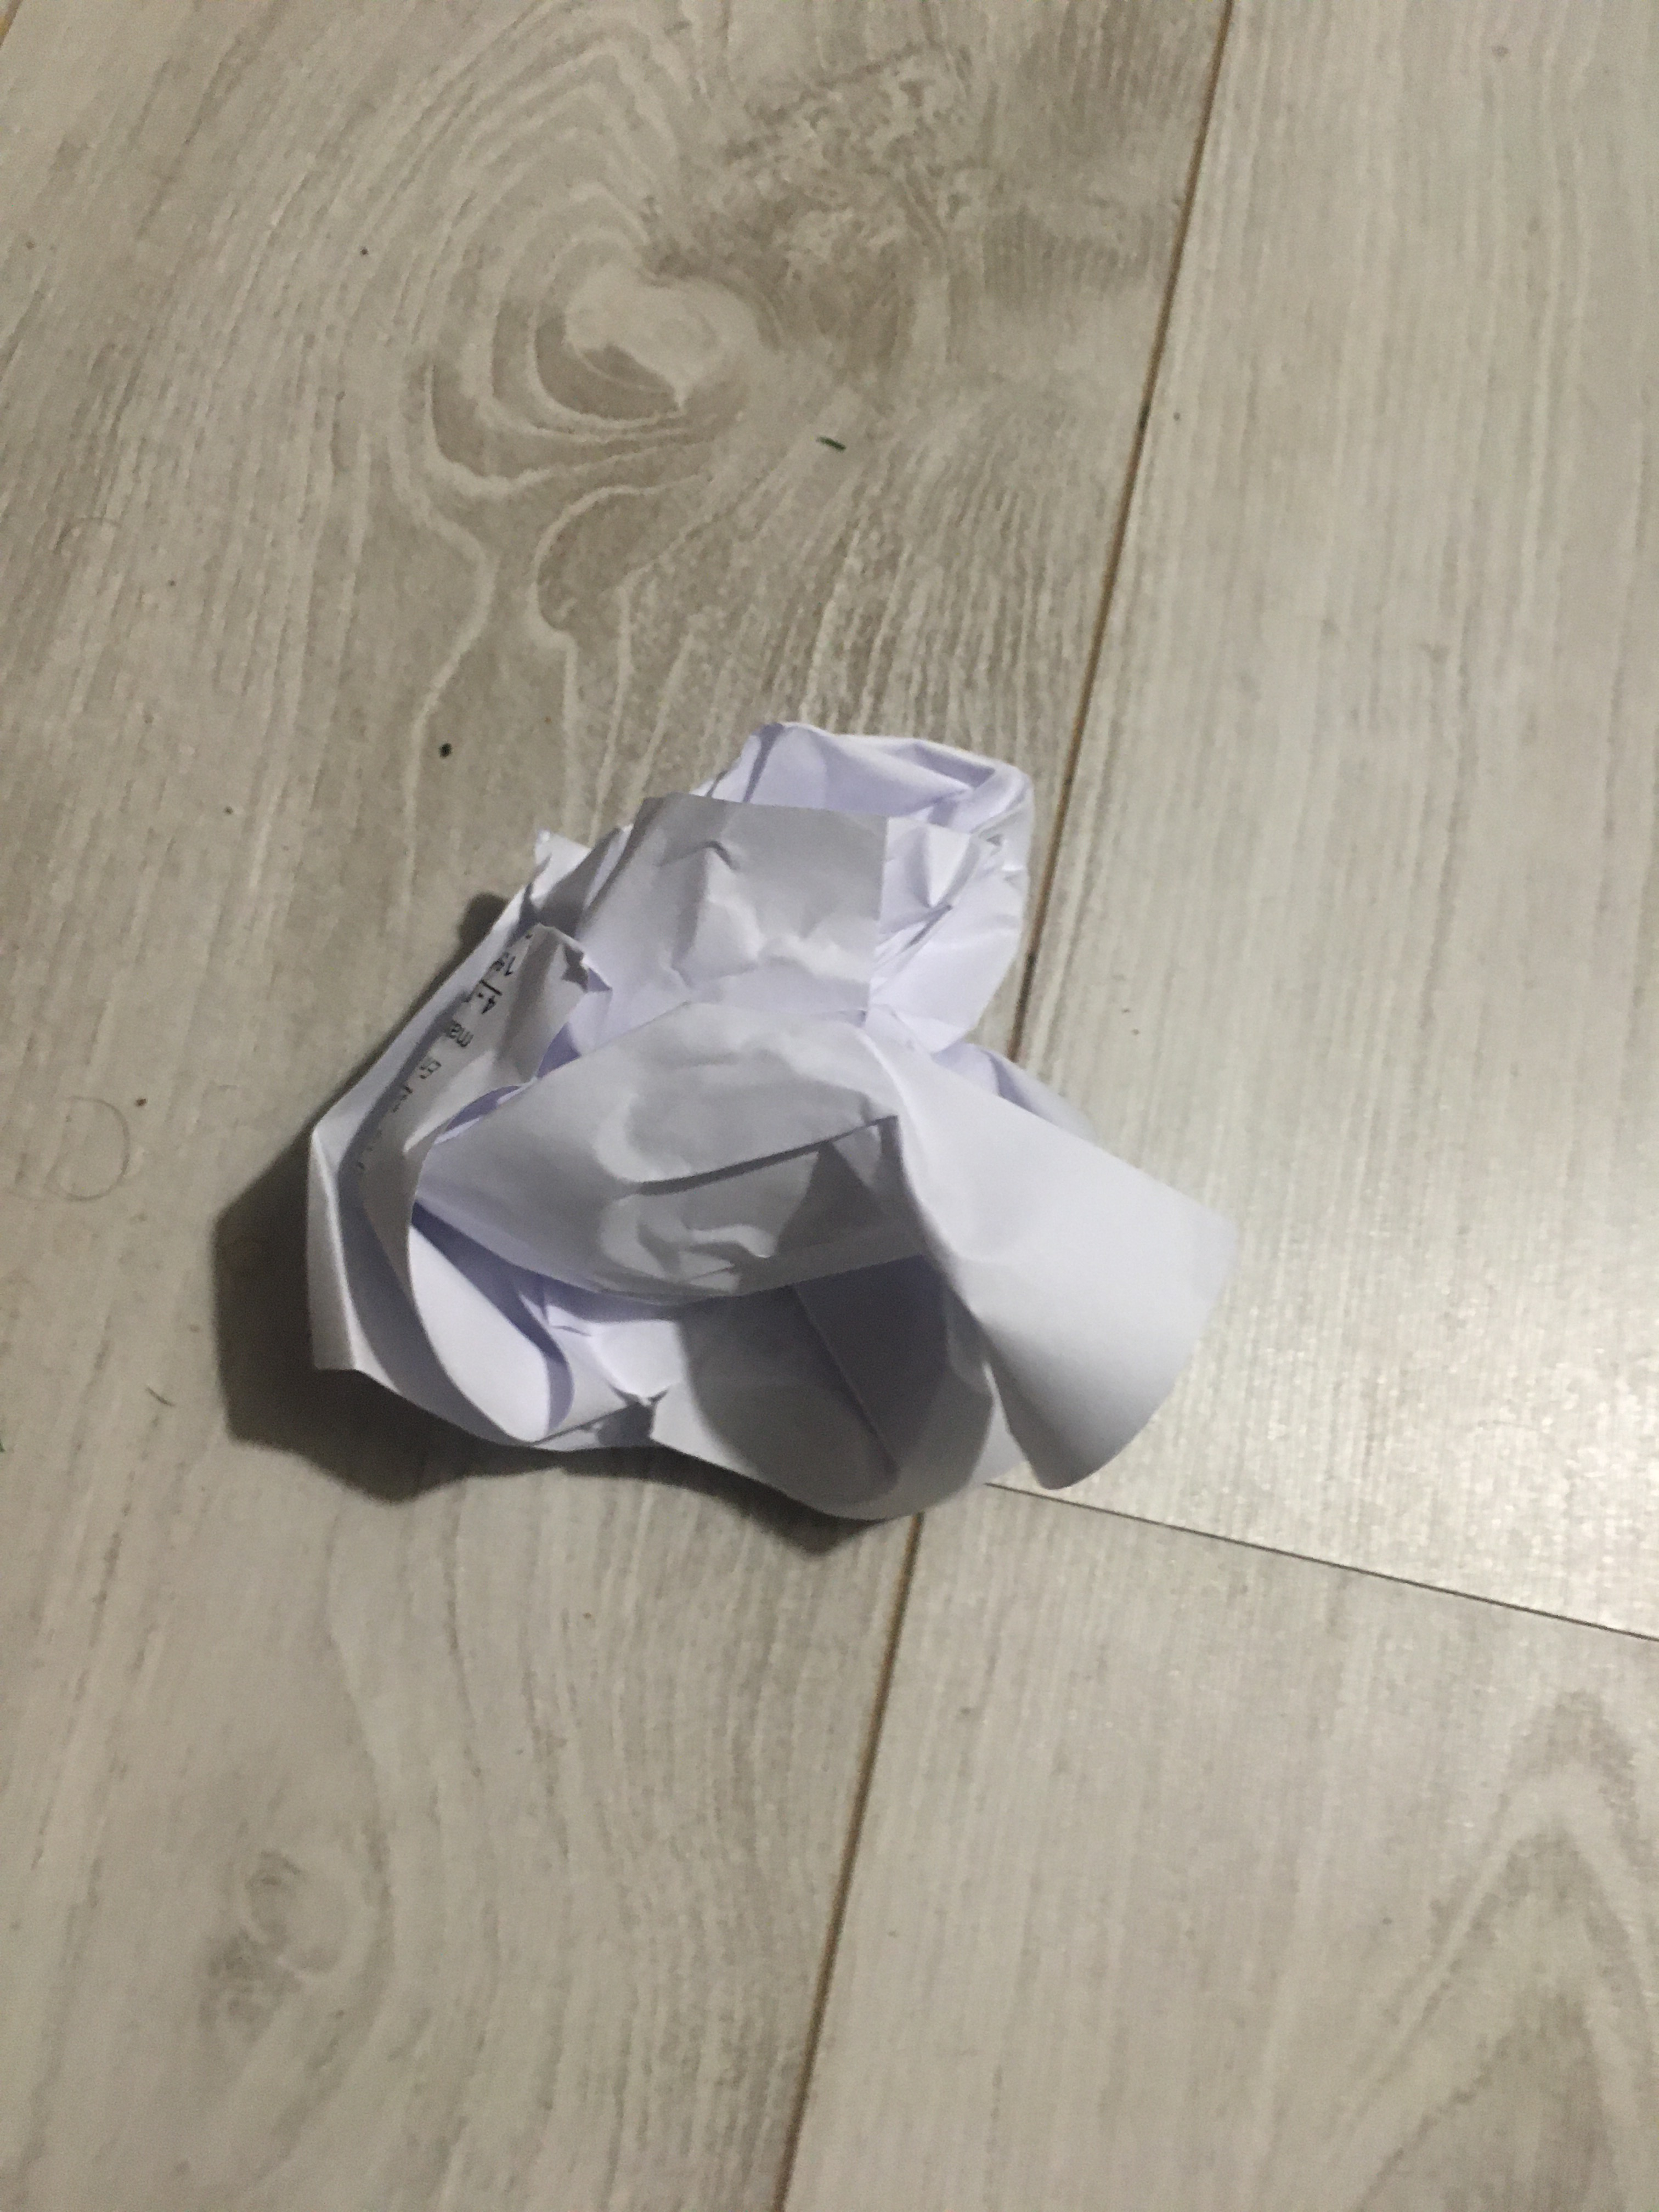paper: (315, 723, 1234, 1521)
